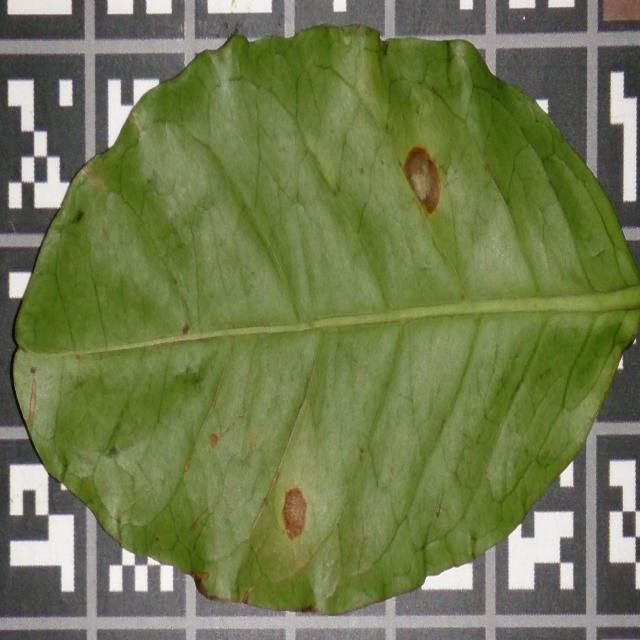Enfermedad-Mancha-de-hierro: (10, 26, 640, 610)
